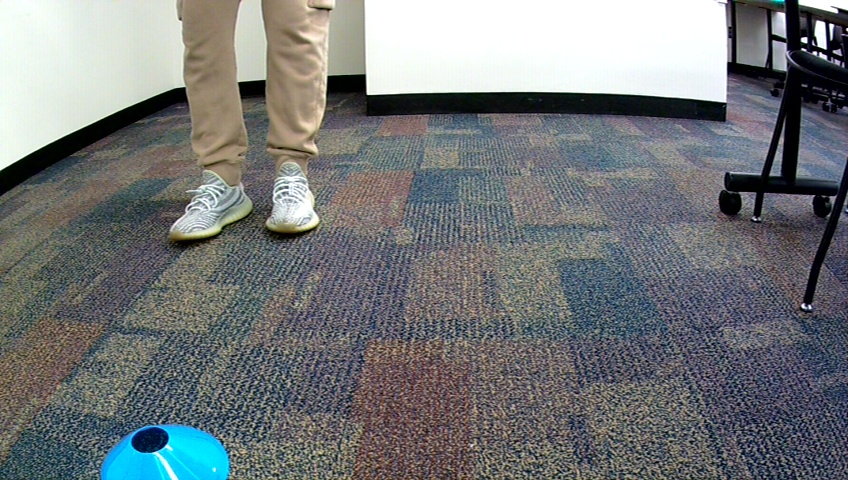cone: (96, 423, 230, 480)
